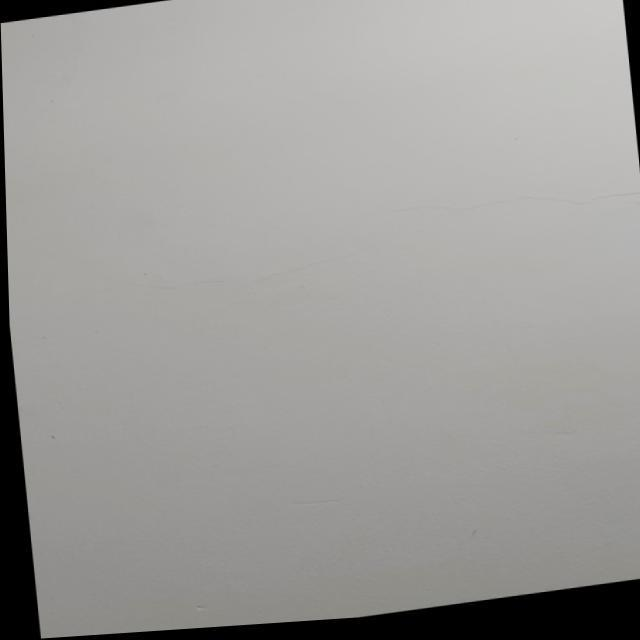Crack: (21, 244, 368, 308), (372, 178, 638, 221)
